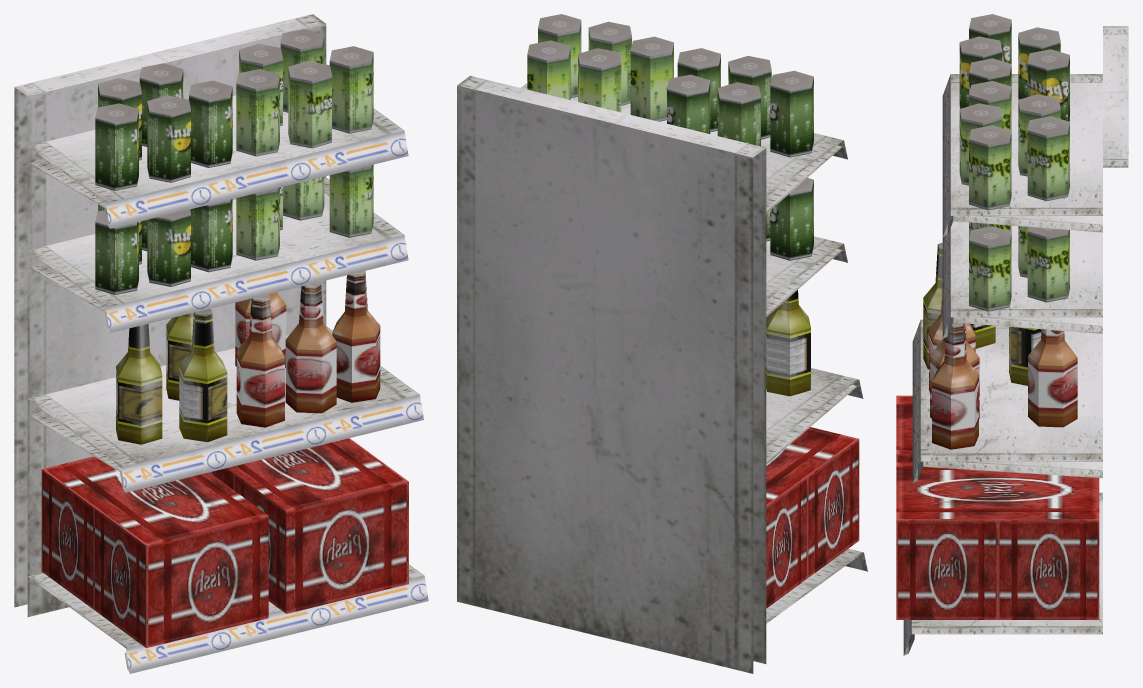
3 renders of one model, left to right at view 1: azimuth 30°, elevation 25°; view 2: azimuth 150°, elevation 25°; view 3: azimuth 270°, elevation 25°, orthographic. The views are drawn at different scales.
Visible parts, largest first — view 1: CJ_SS_3_M; view 2: CJ_SS_3_M; view 3: CJ_SS_3_M.
Boxes of the visible parts, <box> form: CJ_SS_3_M: <box>14,14,428,673</box>; CJ_SS_3_M: <box>457,14,867,673</box>; CJ_SS_3_M: <box>896,14,1128,655</box>.
Bounding box in the file's own units: 1 × 1.72 × 0.6935.
